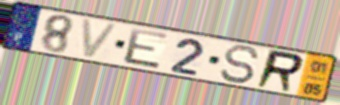2: (166, 36, 209, 78)
8: (38, 14, 76, 54)
E: (122, 26, 171, 72)
R: (253, 48, 307, 95)
S: (218, 43, 262, 86)
V: (79, 17, 122, 61)
